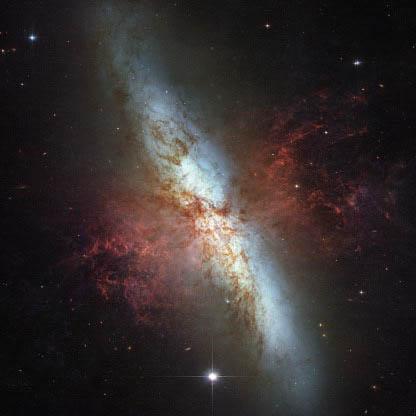Messier 82: (57, 9, 350, 408)
